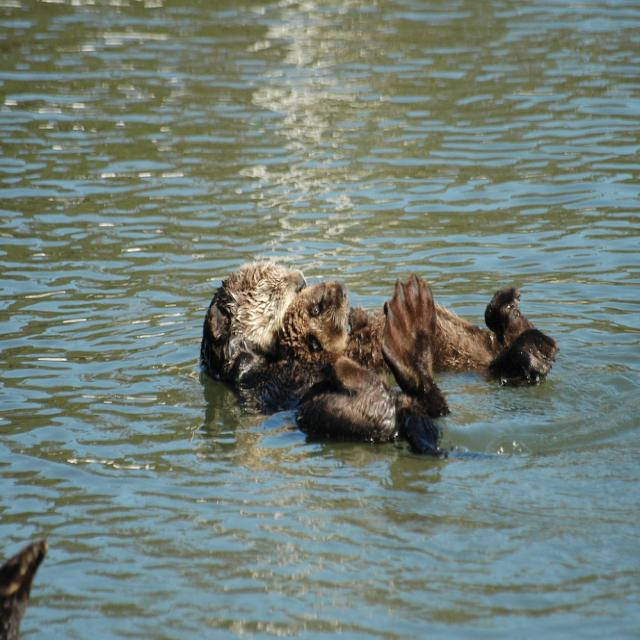otter: (203, 258, 560, 389), (280, 281, 447, 449)
